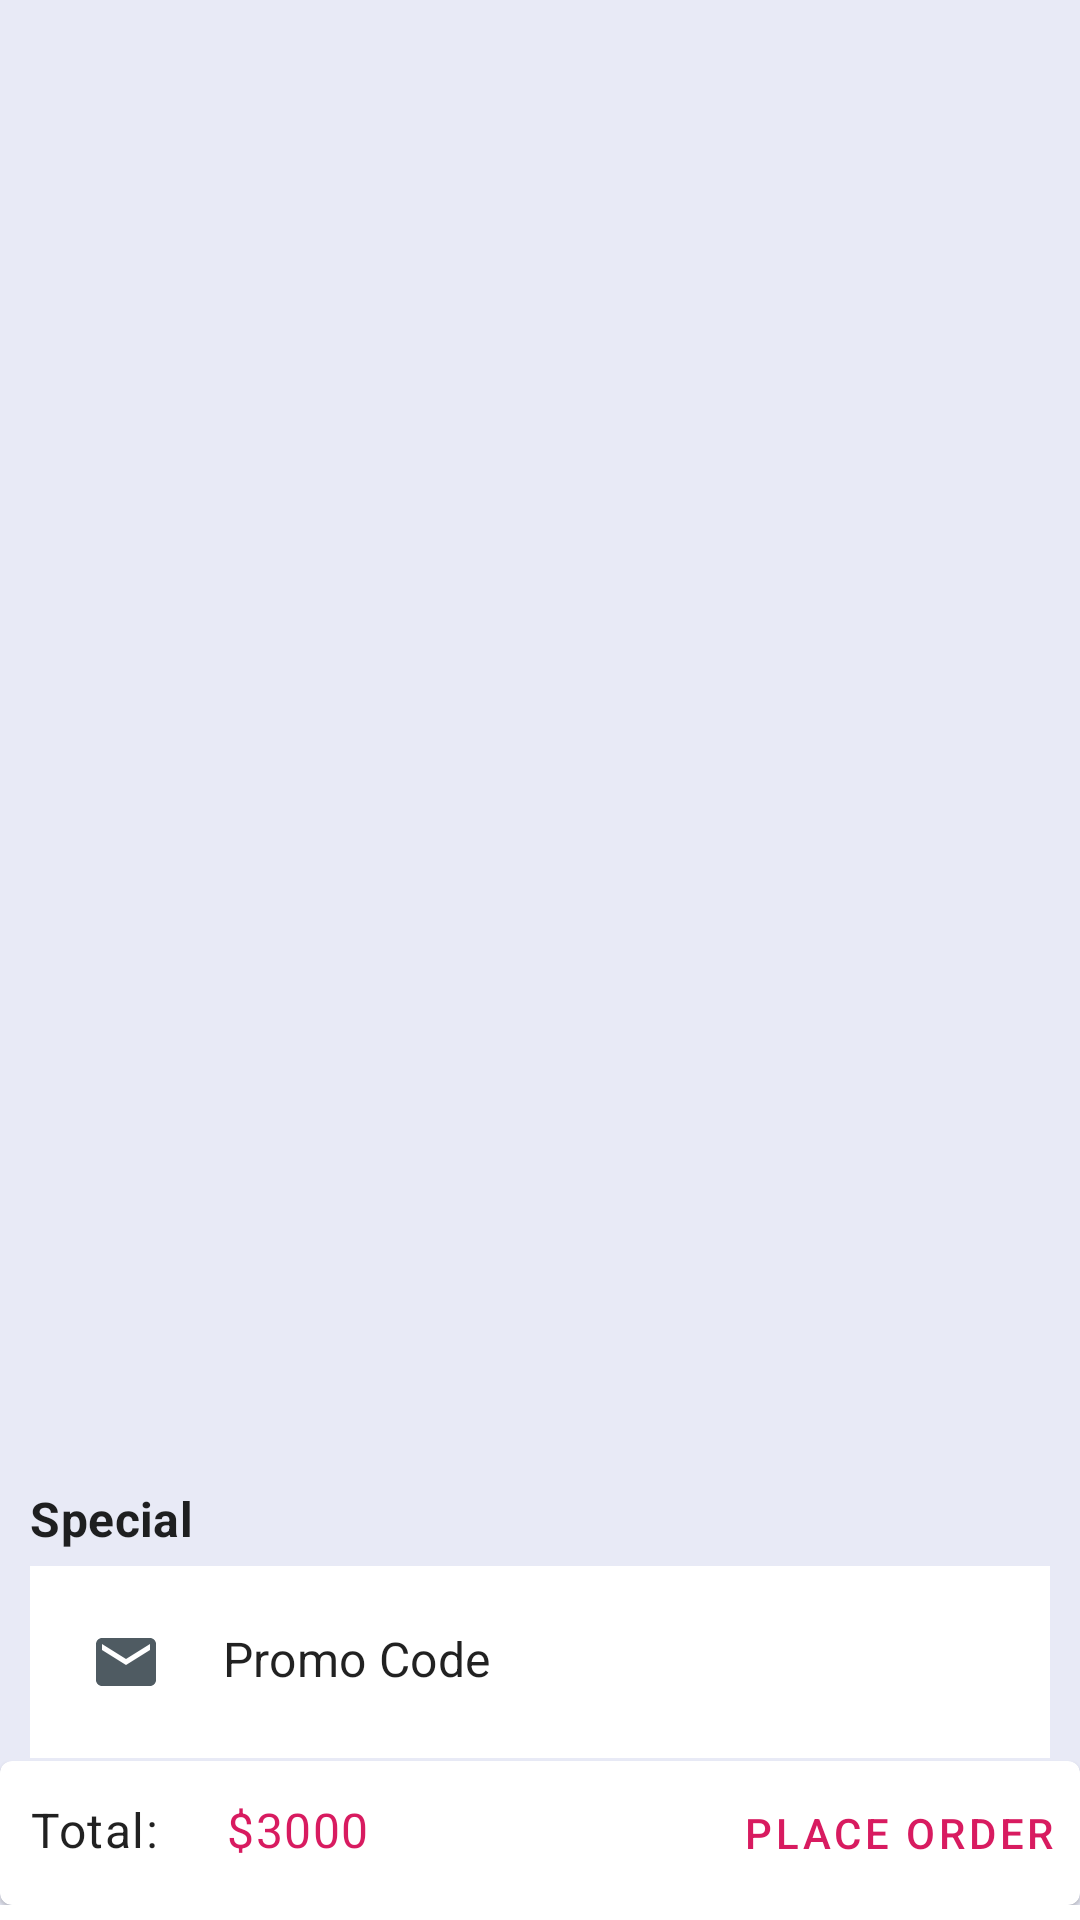

Screen size 1080px×1920px. Icon name, then its box in pixels as (x1, y1, x2, y2):
email: (96, 1638, 156, 1686)
